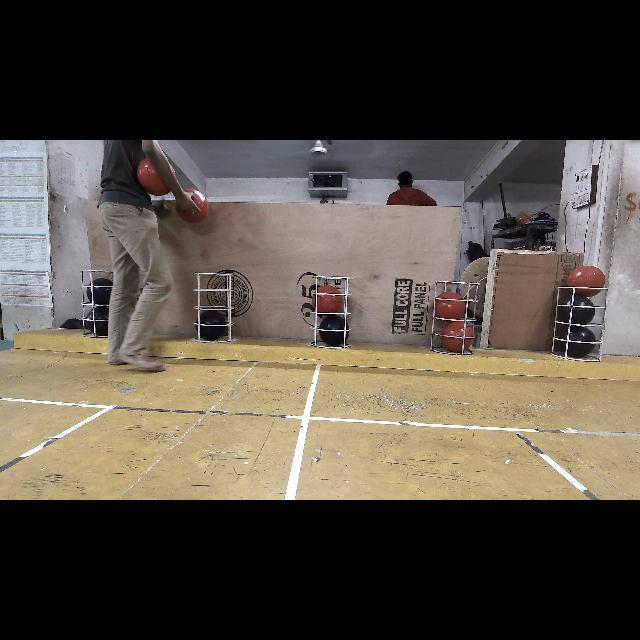P: (559, 325, 595, 359), (560, 296, 594, 326), (320, 316, 350, 346), (196, 312, 227, 340), (84, 308, 108, 336), (85, 280, 111, 304)
R: (570, 265, 606, 295), (440, 321, 472, 354), (434, 292, 464, 321), (311, 288, 344, 314)
S: (429, 279, 486, 353), (551, 282, 605, 356), (309, 272, 355, 351), (193, 266, 234, 338), (78, 268, 120, 338)
